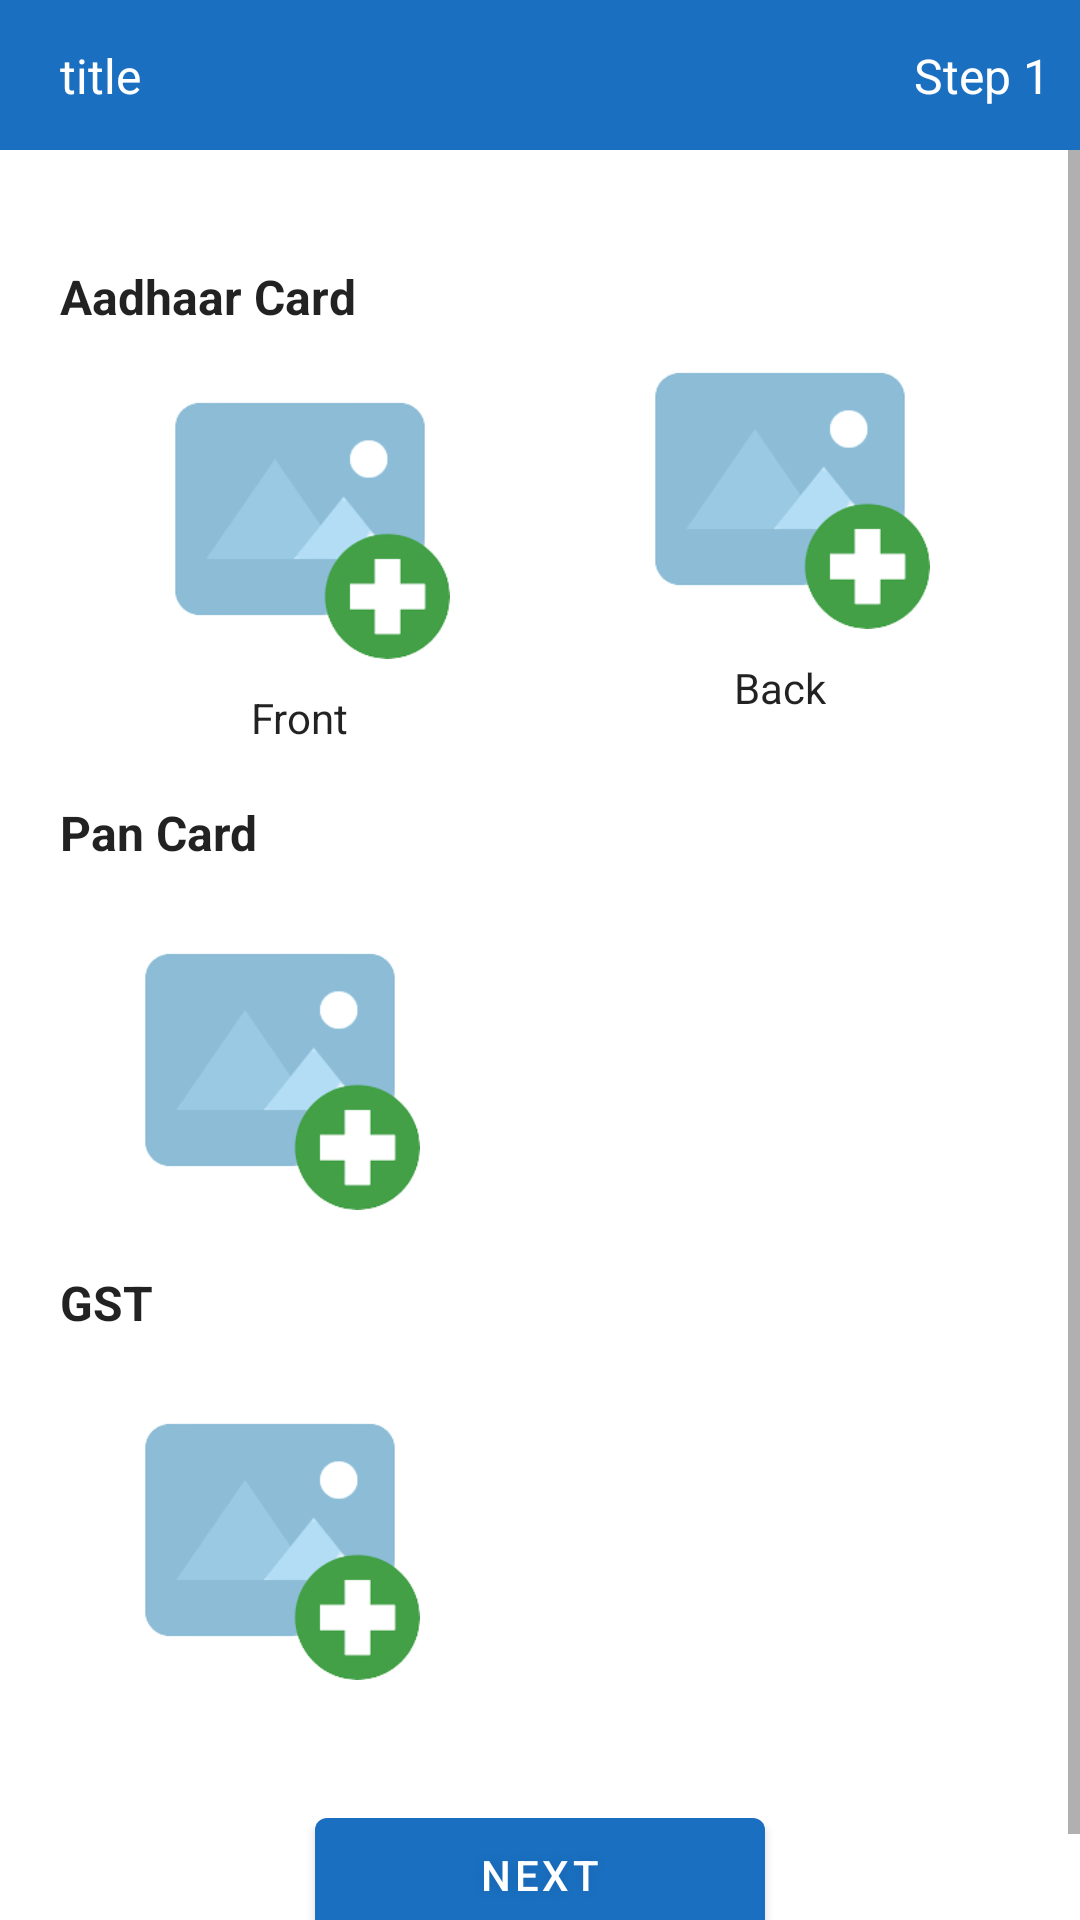

Icon bounding boxes for this 1080×1920 phone screenshot, format {"x1": x1, "y1": y1, "x2": x2, "y2": y2}:
add: {"x1": 655, "y1": 373, "x2": 930, "y2": 629}, {"x1": 175, "y1": 403, "x2": 450, "y2": 659}, {"x1": 145, "y1": 954, "x2": 420, "y2": 1210}, {"x1": 145, "y1": 1424, "x2": 420, "y2": 1680}
